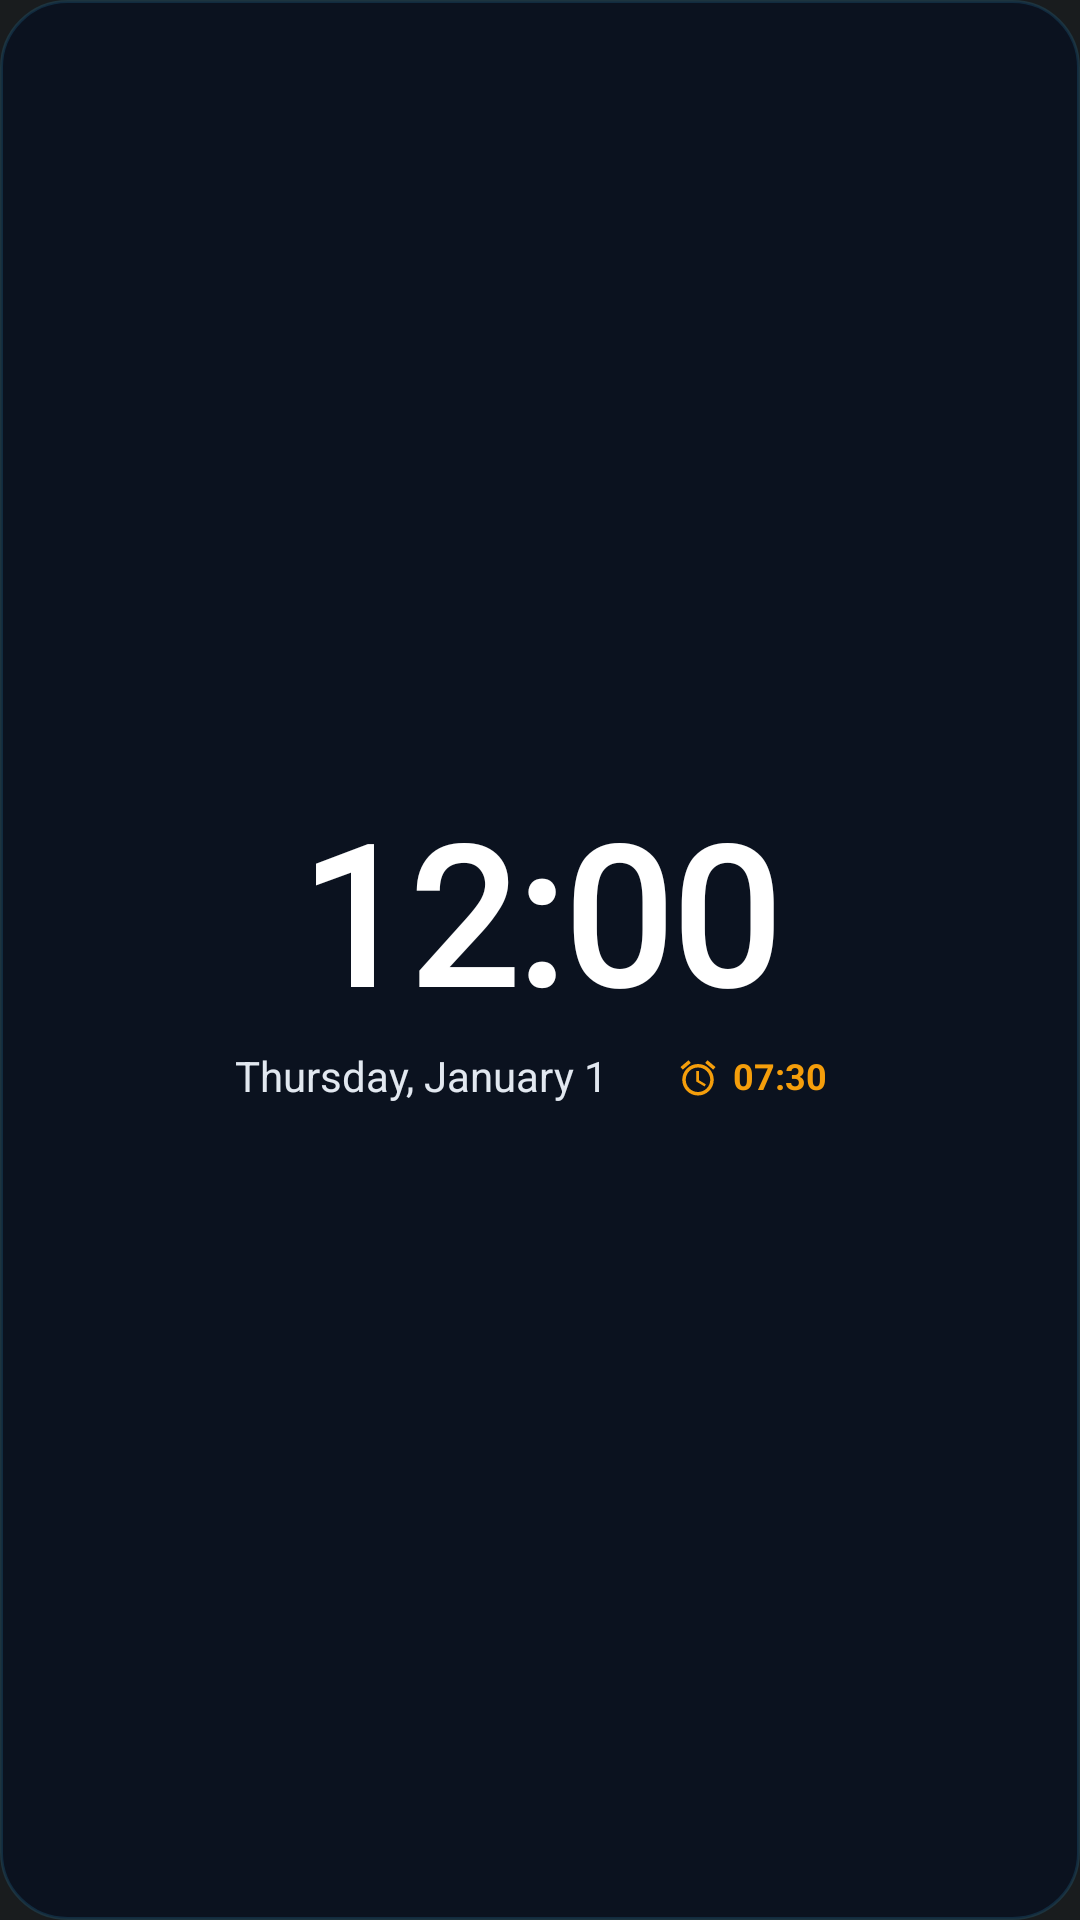

Screen size 1080*1920. Icon name, then its center in pixels as [x,y]:
Next alarm: [698,1078]
